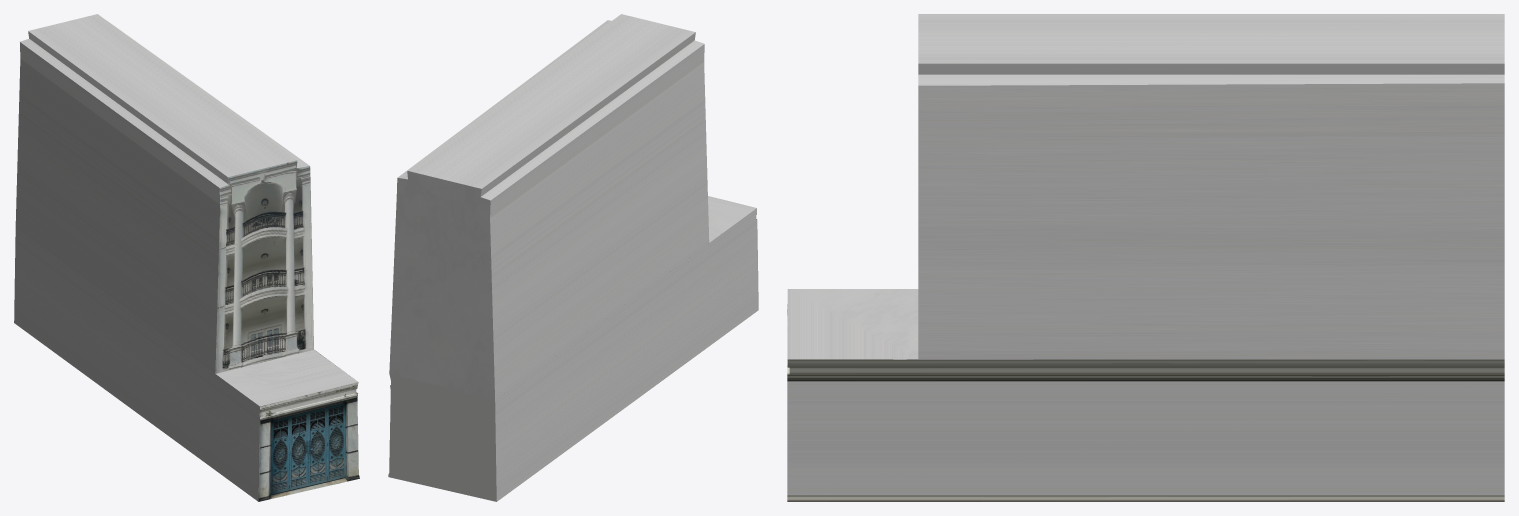
Rendered from RefHouse3.fbx.
3 renders of one model, left to right at view 1: azimuth 30°, elevation 25°; view 2: azimuth 150°, elevation 25°; view 3: azimuth 270°, elevation 25°, orthographic. The views are drawn at different scales.
Parts seen in each view (by area): view 1: ReferenceHouse3; view 2: ReferenceHouse3; view 3: ReferenceHouse3.
Boxes of the visible parts, bbox=[...] form: ReferenceHouse3: bbox=[14, 14, 359, 501]; ReferenceHouse3: bbox=[388, 14, 758, 501]; ReferenceHouse3: bbox=[787, 14, 1504, 501].
Bounding box in the file's own units: 476 × 1303 × 1990.
2 materials, 2 textured.
